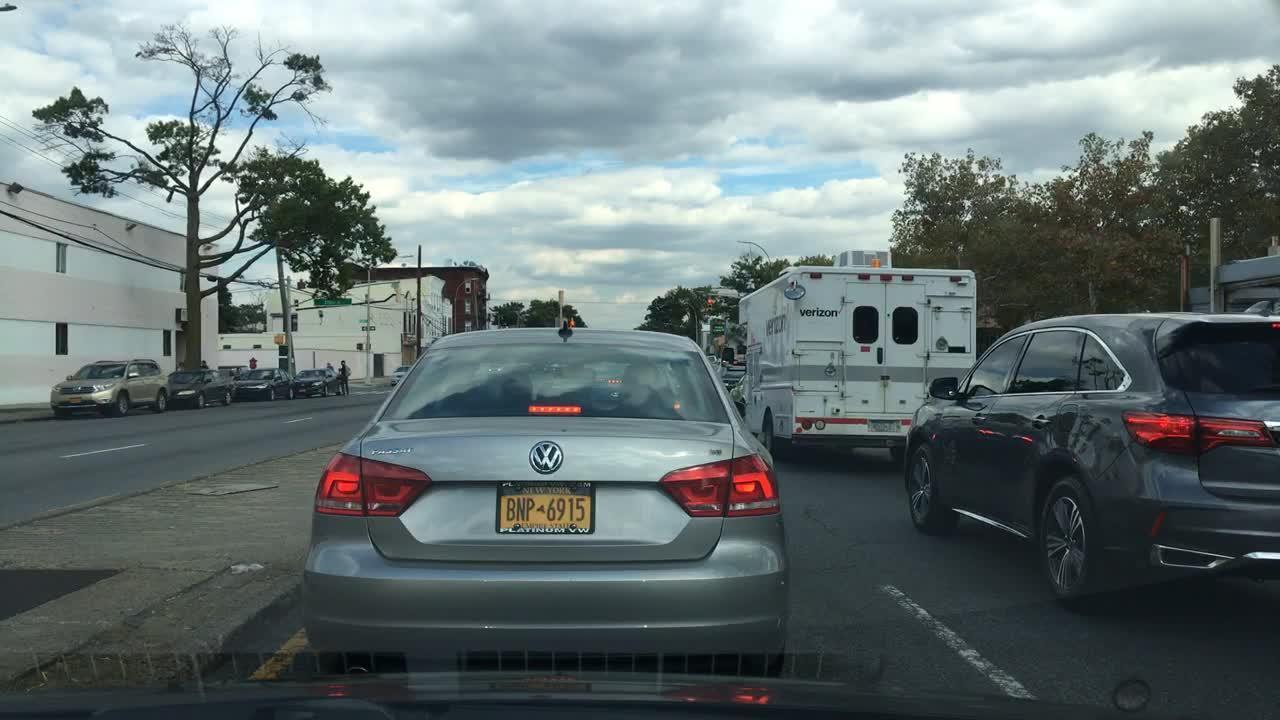Volkswagen: (526, 439, 564, 478)
